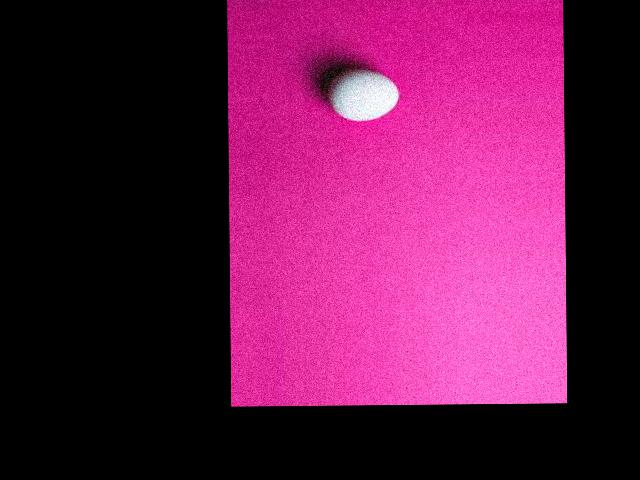egg: (327, 69, 399, 121)
